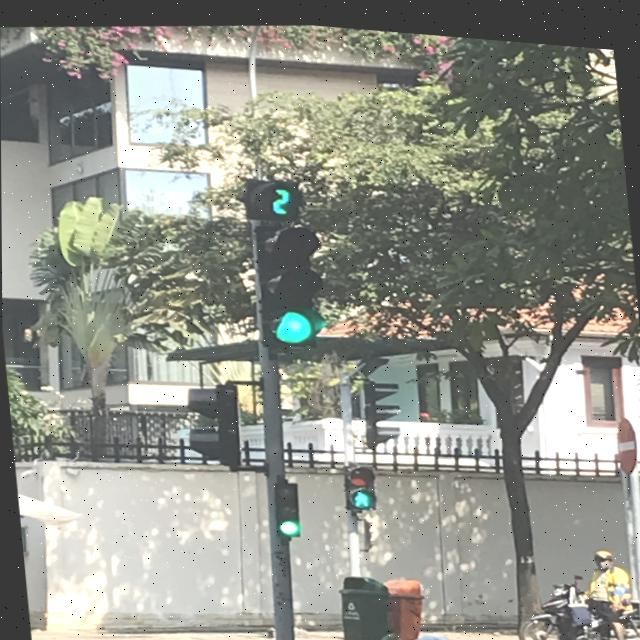Green: (249, 210, 327, 357), (275, 465, 311, 538)
